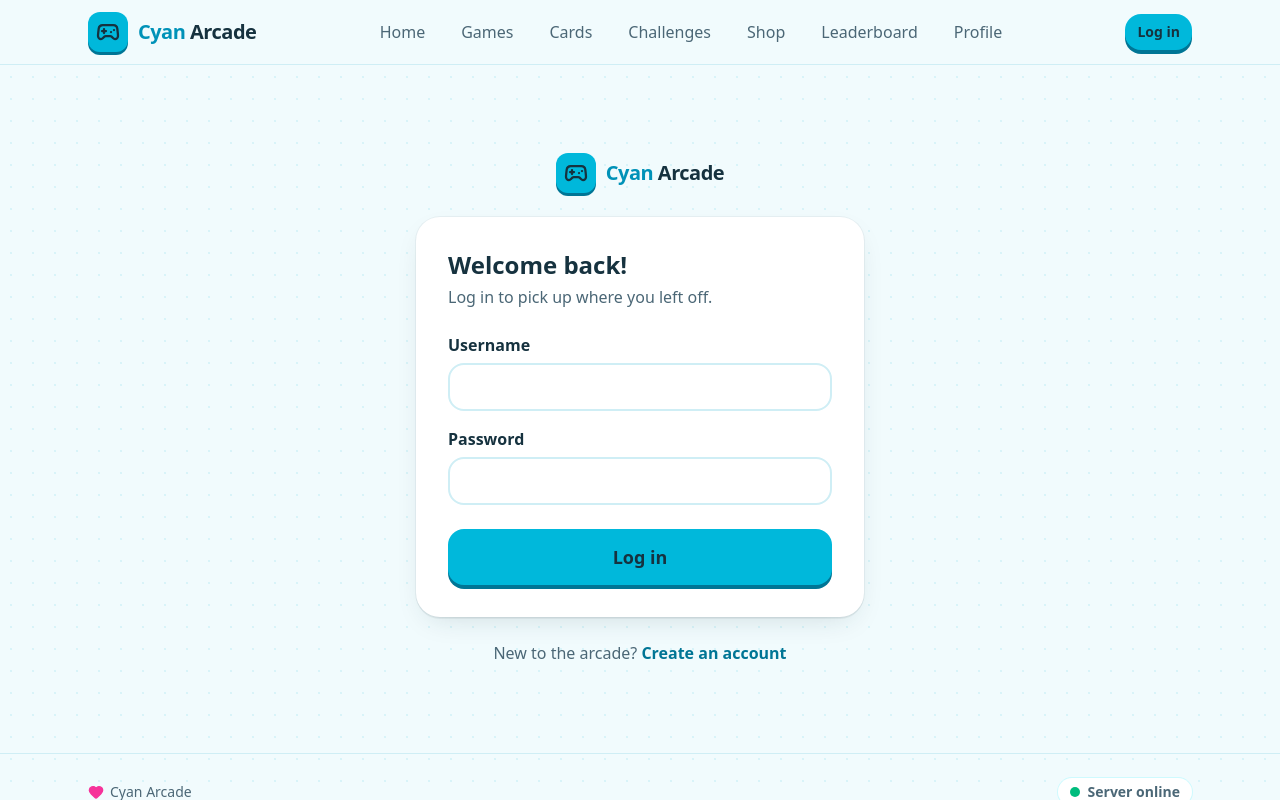
Test case: logging in › returns to the page that asked for the login
Type "pixel" into the field labelled "Username" at (640, 387), box x1=448 y1=363 x2=832 y2=411
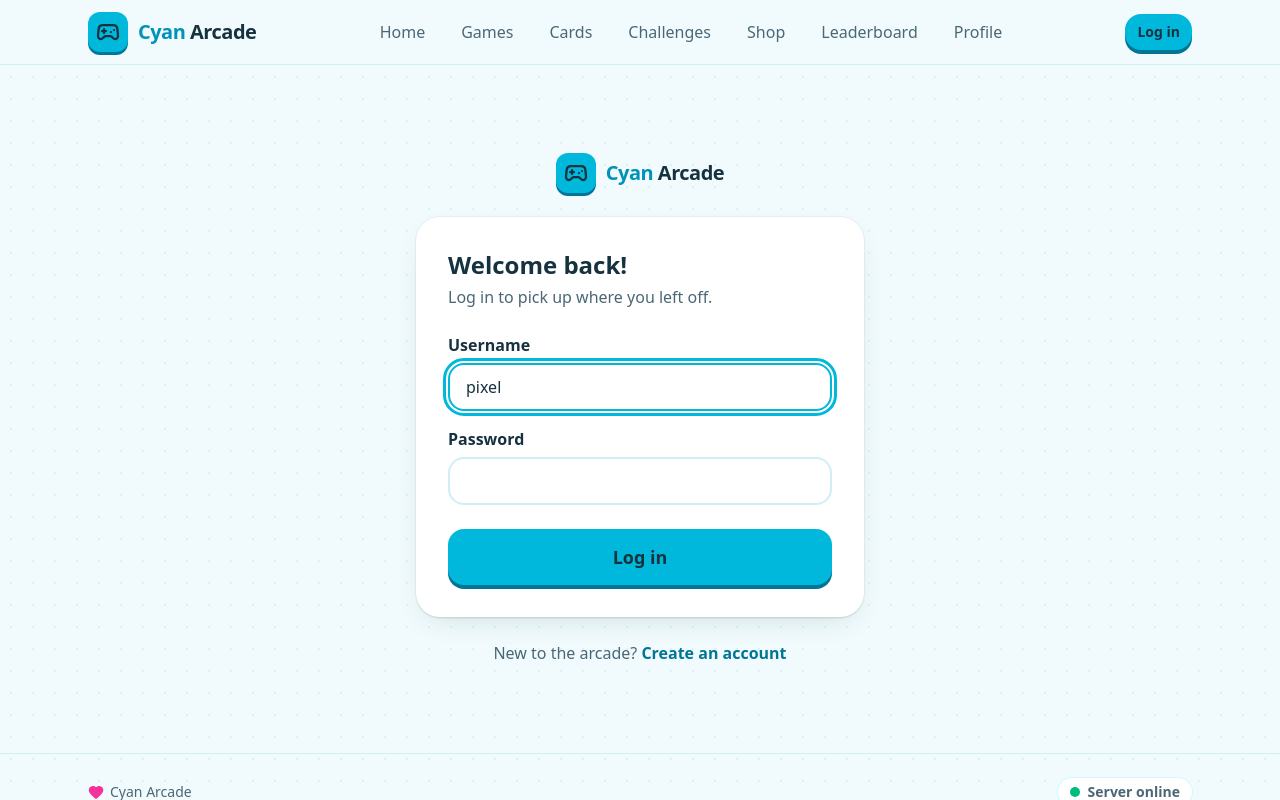
Type "correct-horse-battery" into the password field labelled "Password" at (640, 481), box x1=448 y1=457 x2=832 y2=505
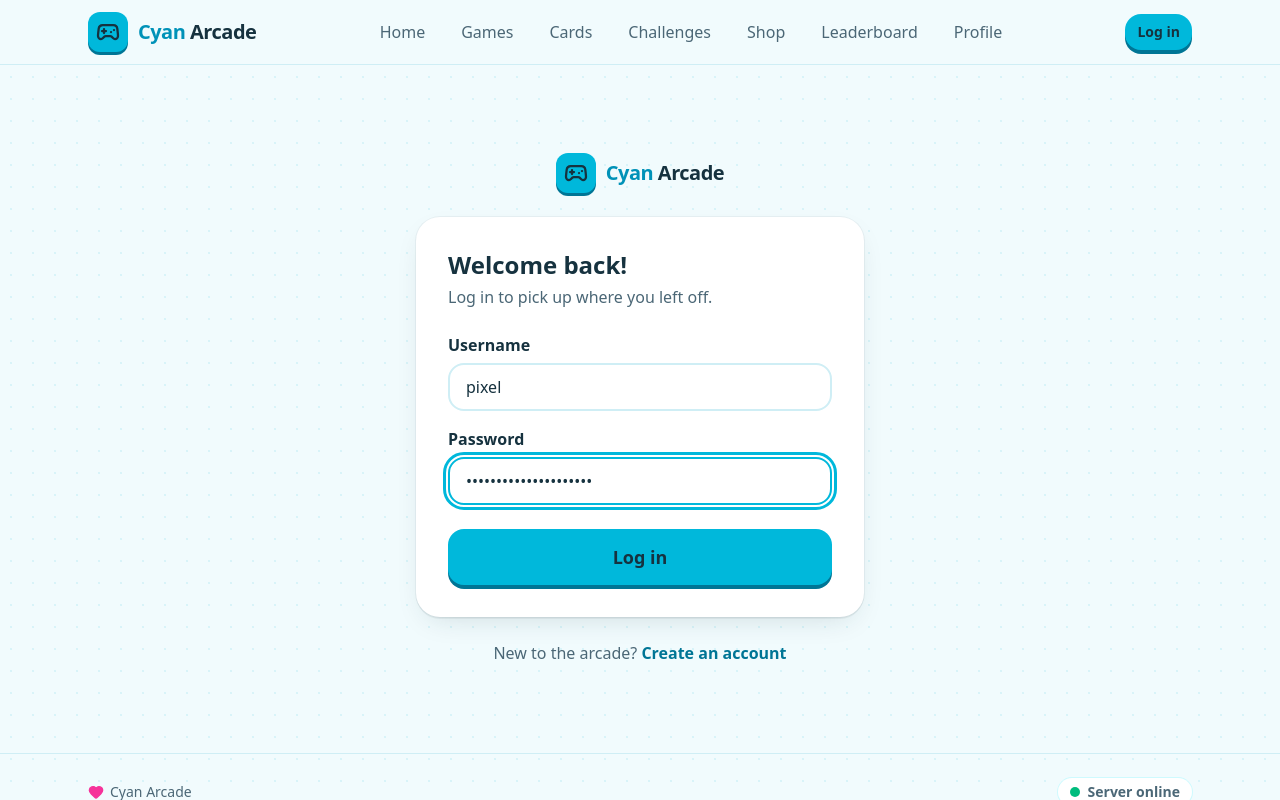
Click the button "Log in" at (640, 557), box x1=448 y1=529 x2=832 y2=585
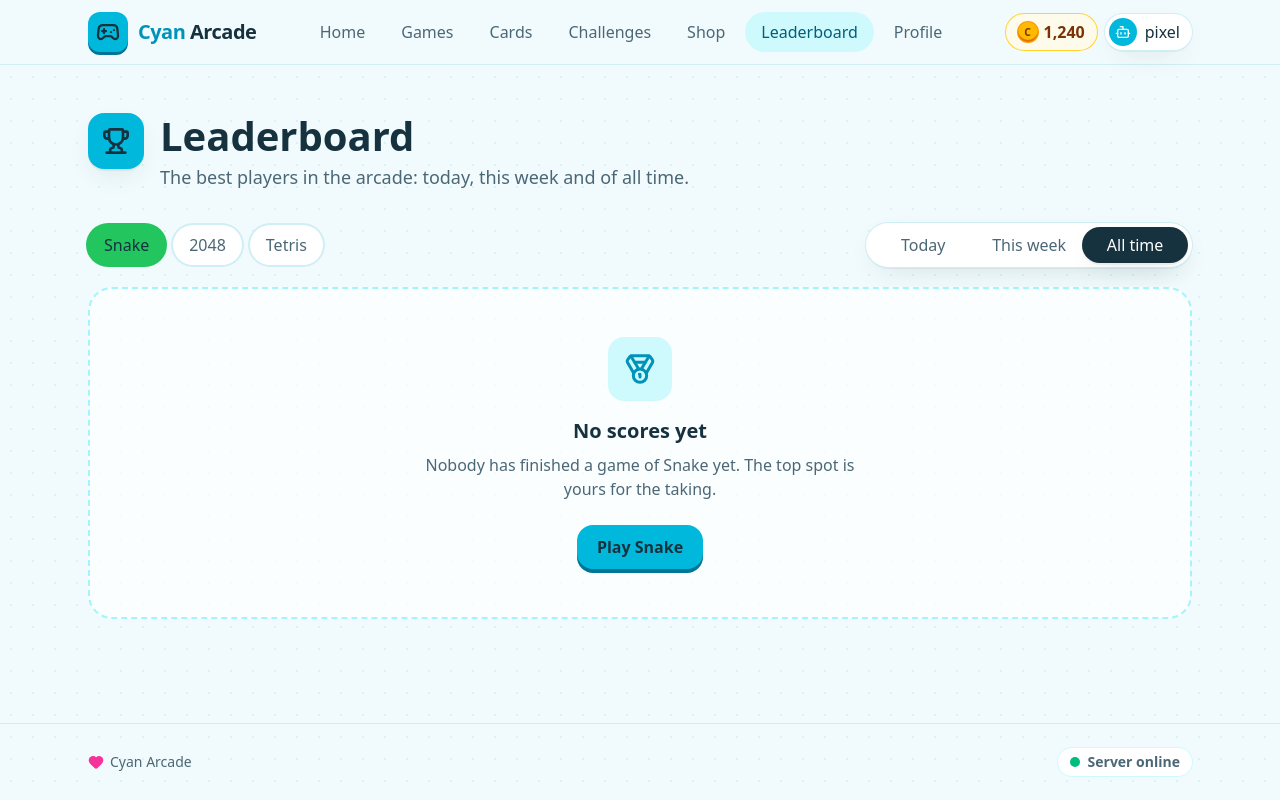
Now the heading "Leaderboard" is shown, box x1=160 y1=108 x2=414 y2=163
